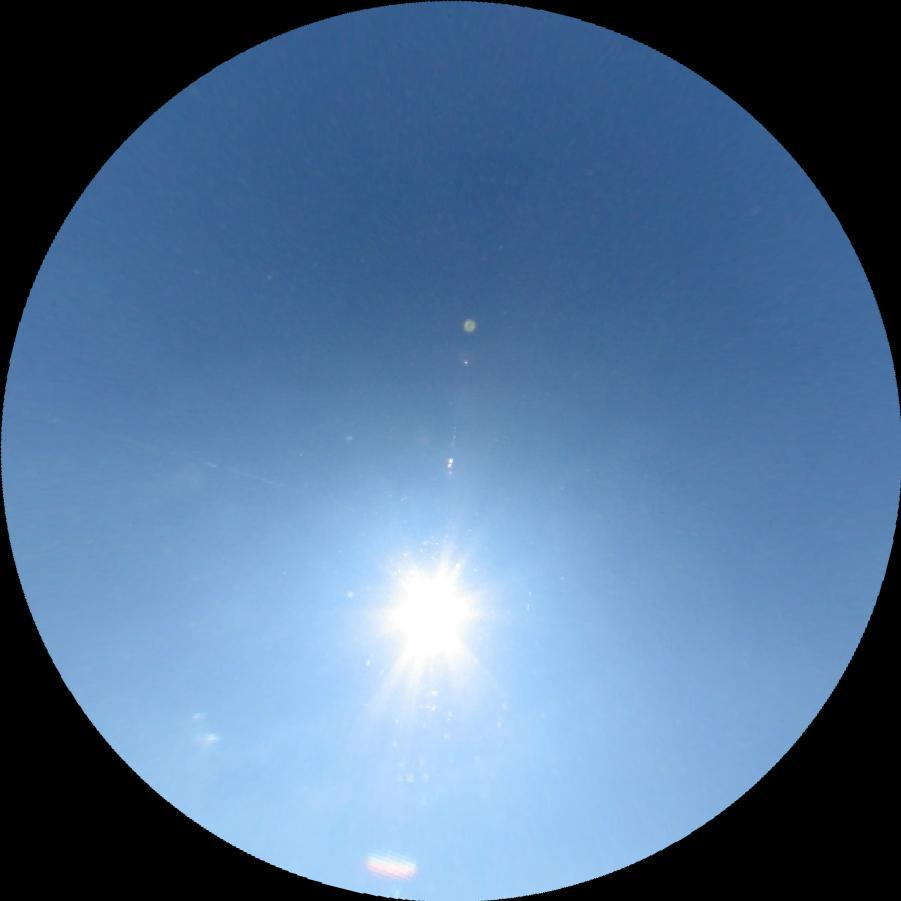sun: (381, 560, 476, 662)
